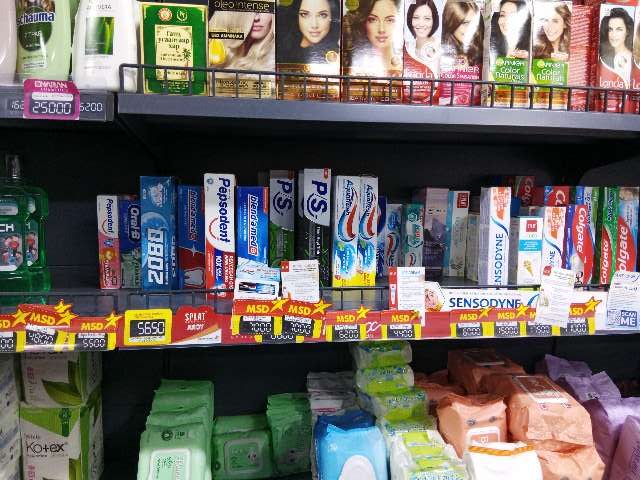2080: (141, 177, 170, 286)
aquafresh: (336, 176, 357, 282), (360, 175, 377, 286), (400, 201, 421, 277), (386, 205, 398, 278)
blend a med: (178, 184, 203, 285), (236, 186, 266, 269)
colgate: (567, 205, 591, 284), (617, 186, 635, 277), (601, 187, 616, 284)
kotex: (19, 409, 86, 480), (15, 354, 90, 407)
oralb: (118, 201, 140, 286)
pepsodent: (202, 172, 235, 289), (97, 196, 118, 292)
ps: (303, 171, 331, 279), (270, 168, 293, 262)
sensodyne: (484, 186, 506, 284), (542, 207, 561, 281)
splat: (450, 190, 468, 278), (517, 218, 538, 288)
